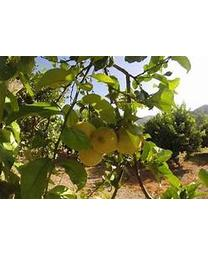lemon: (90, 125, 118, 155), (78, 143, 103, 164), (119, 131, 140, 153)
